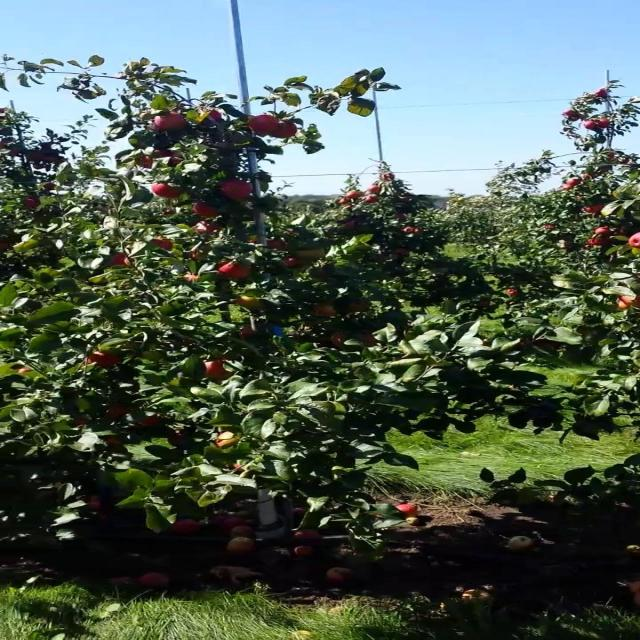apple: (136, 148, 171, 169), (247, 114, 280, 136), (220, 179, 253, 200), (153, 112, 187, 131), (84, 351, 122, 368), (218, 260, 251, 279), (204, 361, 231, 381), (269, 120, 298, 138), (151, 182, 182, 198), (293, 248, 327, 261), (193, 202, 220, 218), (216, 431, 240, 448), (104, 404, 129, 420), (193, 220, 220, 234), (236, 296, 264, 309), (616, 295, 640, 310), (356, 332, 378, 348), (313, 302, 338, 316), (238, 326, 262, 340), (151, 236, 173, 251), (282, 256, 309, 268), (138, 415, 162, 428), (347, 299, 371, 312), (109, 252, 131, 266), (331, 332, 347, 350), (169, 430, 187, 446), (140, 350, 164, 361), (238, 326, 258, 339), (267, 238, 287, 250), (22, 196, 40, 209), (167, 151, 182, 166), (331, 332, 344, 349), (618, 295, 633, 309), (189, 246, 204, 260), (627, 232, 640, 248), (207, 110, 222, 121), (104, 436, 120, 446), (184, 272, 200, 282), (71, 416, 87, 426)
